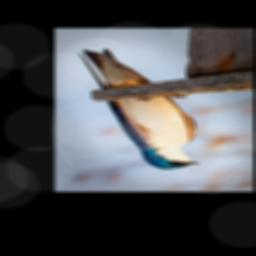Swallow: (77, 48, 201, 170)
